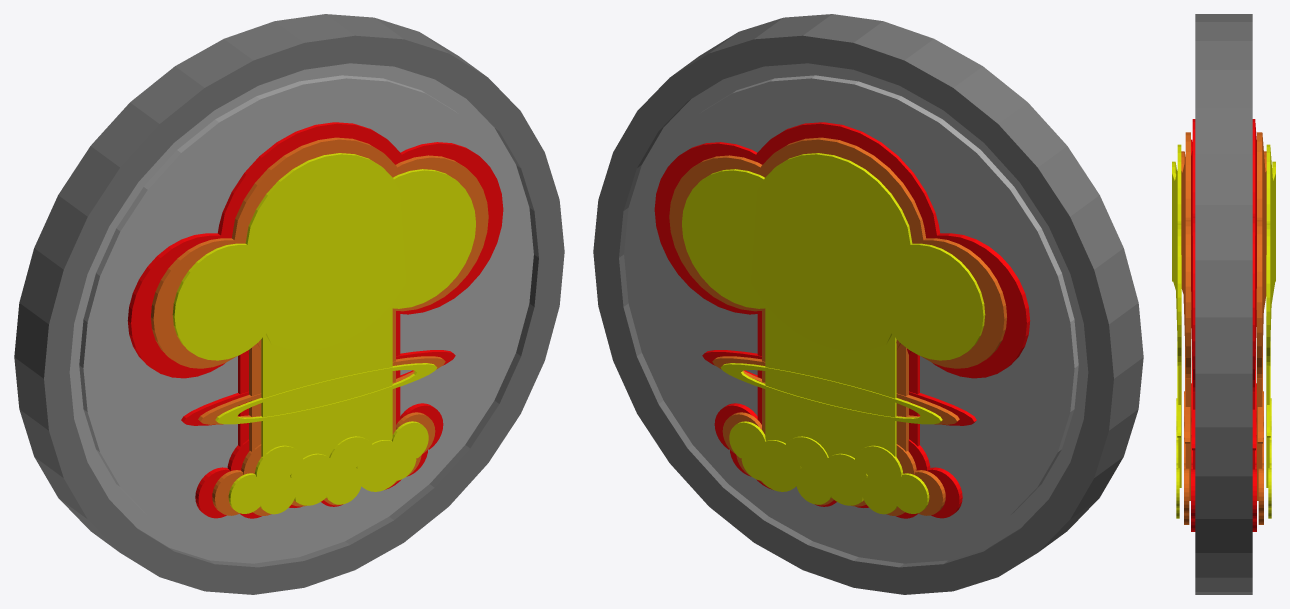
File: PowerUp_Nuke.fbx
3 views of the same model, side by side, from view 1: azimuth 30°, elevation 25°; view 2: azimuth 150°, elevation 25°; view 3: azimuth 270°, elevation 25° (orthographic). The views are drawn at different scales.
Visible parts, largest first — view 1: Nuke; view 2: Nuke; view 3: Nuke.
Boxes of the visible parts, bbox=[...] form: Nuke: bbox=[14, 14, 564, 594]; Nuke: bbox=[593, 14, 1143, 594]; Nuke: bbox=[1172, 14, 1275, 594].
Bounding box in the file's own units: 200 × 200 × 35.7.
